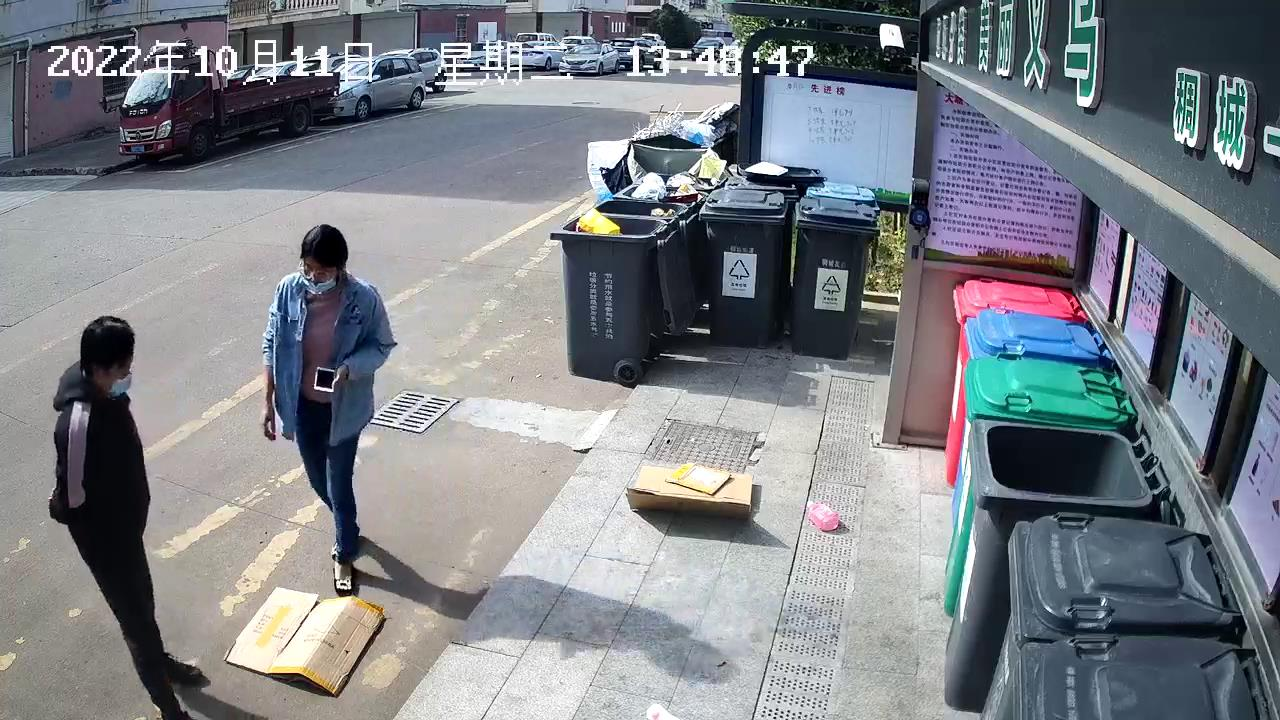person: (40, 307, 206, 720)
suliaozhipin: (802, 495, 842, 538)
worker: (253, 219, 406, 602)
zhizhipin: (213, 578, 390, 701), (621, 456, 763, 527)
